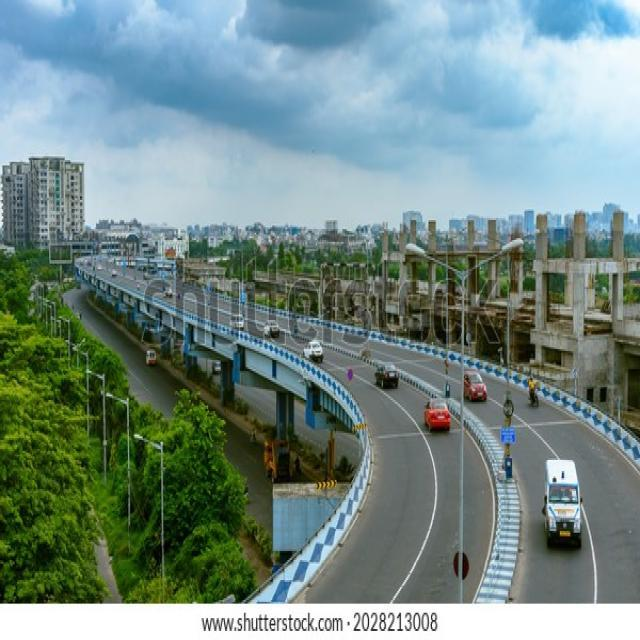ambulance: (543, 459, 586, 551)
